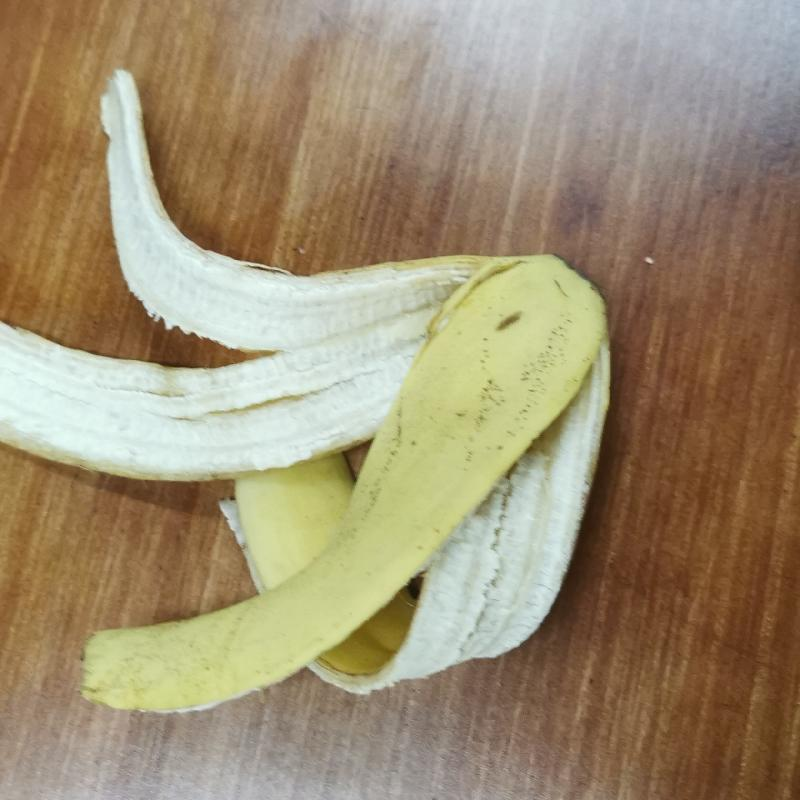bananas: (3, 61, 614, 734)
